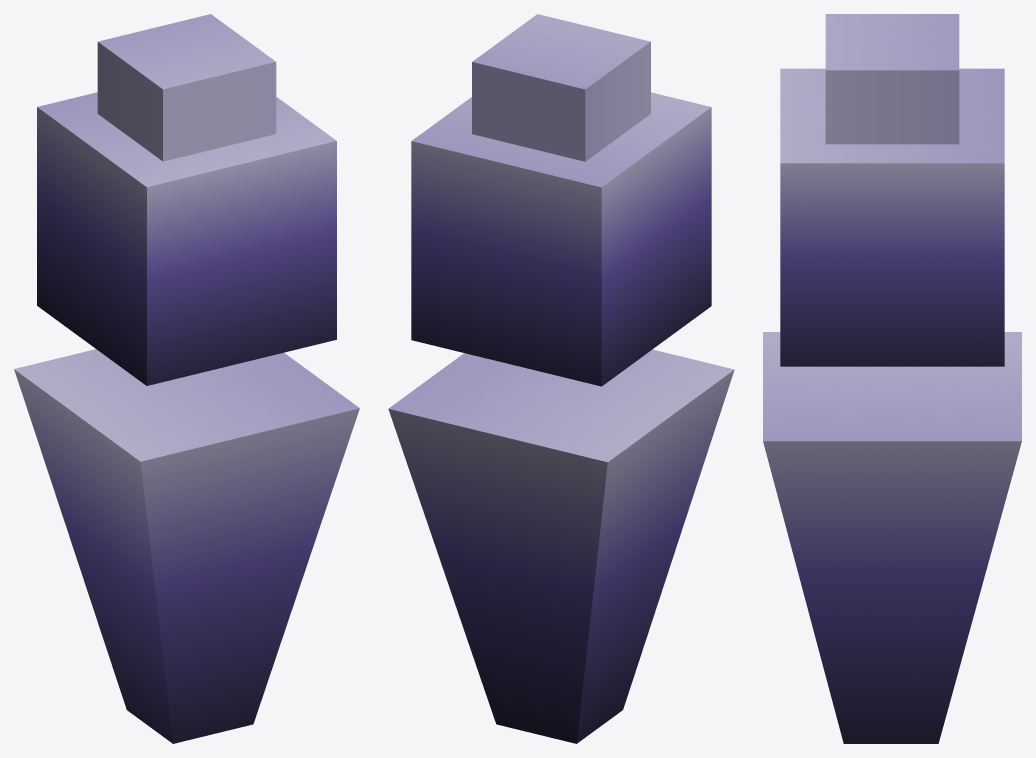
Rendered from judge_lion.obj.
3 renders of one model, left to right at view 1: azimuth 30°, elevation 25°; view 2: azimuth 150°, elevation 25°; view 3: azimuth 270°, elevation 25°, orthographic. The views are drawn at different scales.
Parts seen in each view (by area): view 1: Agent; view 2: Agent; view 3: Agent.
Part boxes in pixels (bbox=[...]): Agent: bbox=[14, 14, 359, 743]; Agent: bbox=[388, 14, 734, 743]; Agent: bbox=[763, 14, 1021, 743].
Size of the model in its own units: 0.4436 by 1.29 by 0.4436.
